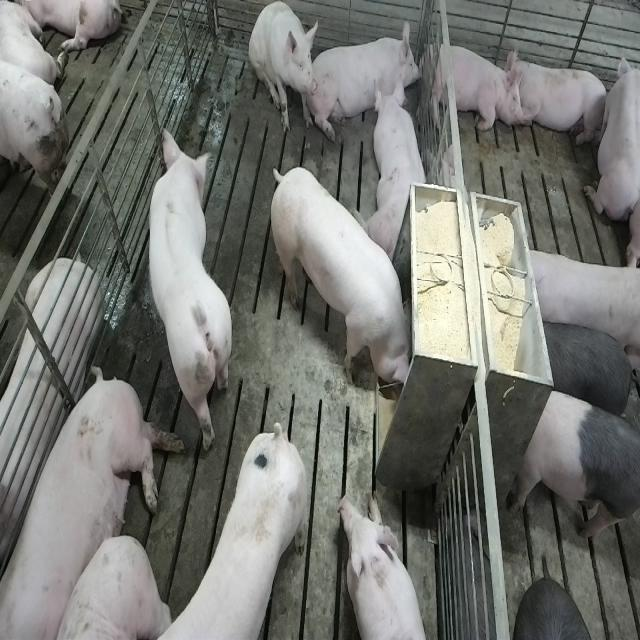Feeding: (273, 164, 421, 396)
Lateral_lying: (2, 367, 184, 640), (0, 256, 103, 610)
Sitting: (249, 2, 319, 134)
Standing: (136, 423, 317, 640), (144, 121, 232, 458), (512, 384, 638, 548), (518, 242, 637, 366), (536, 318, 638, 419)
Sternal_lying: (338, 493, 433, 640), (314, 22, 426, 134), (368, 78, 430, 264), (584, 43, 637, 231), (510, 52, 609, 148), (425, 36, 521, 134)
